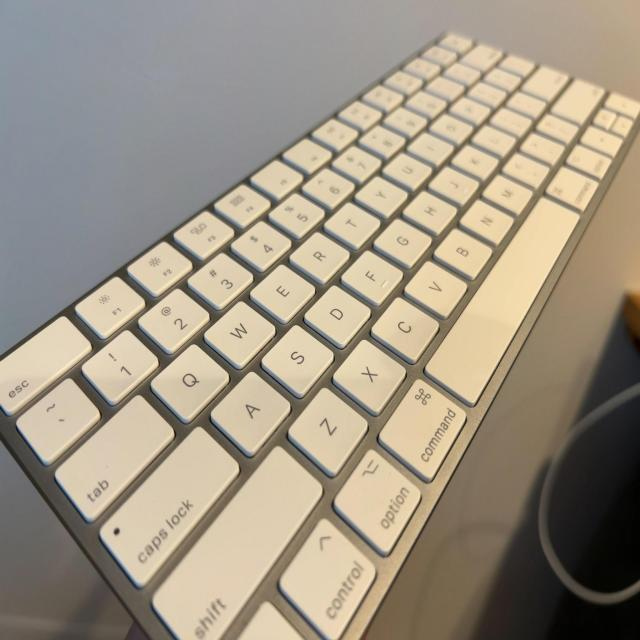keyboard: (3, 30, 638, 638)
